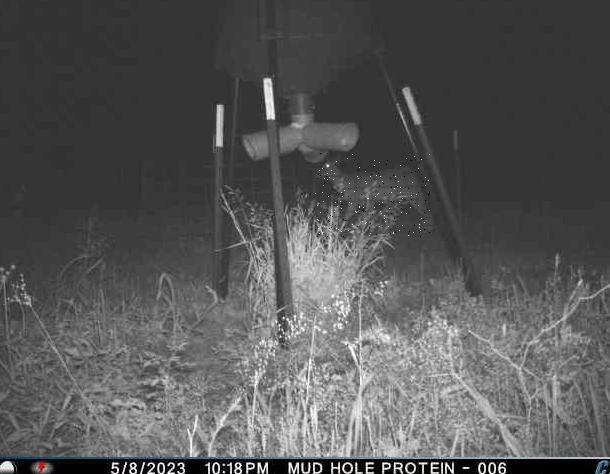Deer: (316, 153, 431, 237)
